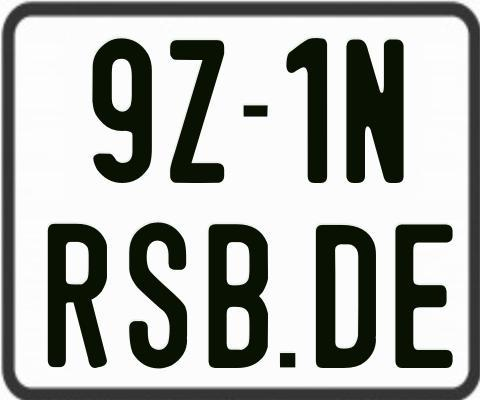1: (283, 37, 326, 184)
9: (91, 36, 153, 182)
B: (207, 222, 271, 368)
D: (315, 223, 380, 366)
E: (393, 221, 451, 371)
N: (344, 36, 405, 185)
R: (46, 222, 105, 370)
S: (126, 220, 185, 366)
Z: (167, 40, 226, 189)
